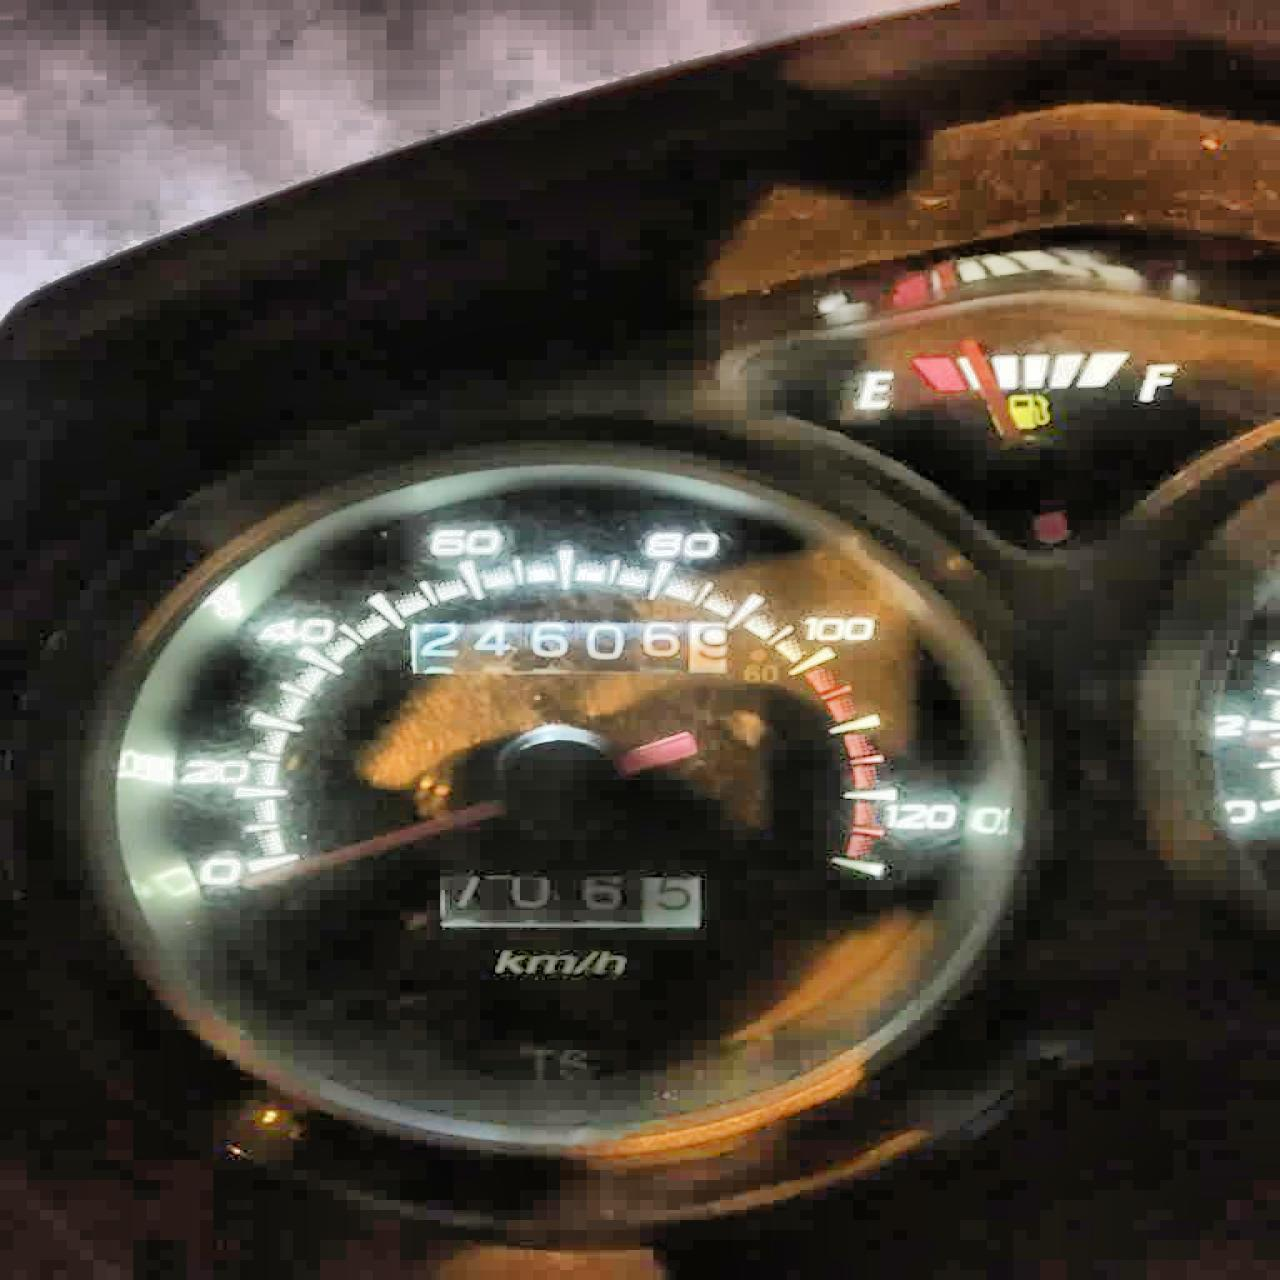0: (584, 621, 624, 660)
2: (418, 622, 459, 656)
4: (471, 620, 510, 655)
6: (640, 620, 680, 658), (530, 621, 567, 658)
9: (695, 625, 730, 660)
odometer: (402, 619, 731, 678)
